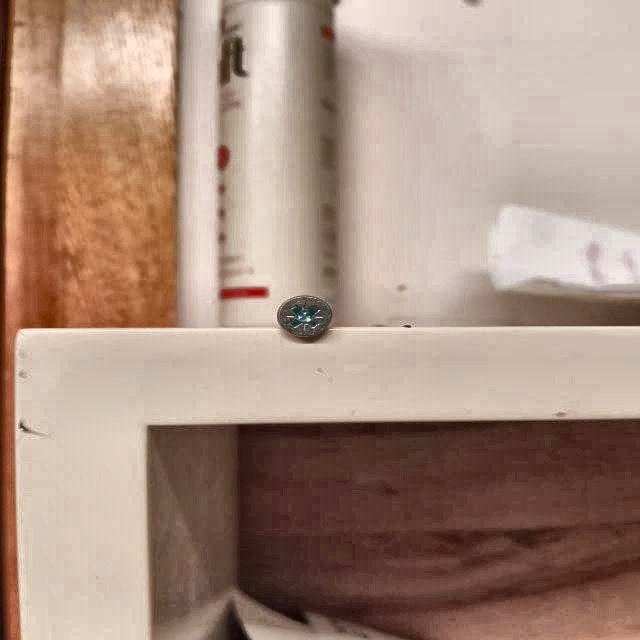pozidriv: (277, 295, 332, 338)
